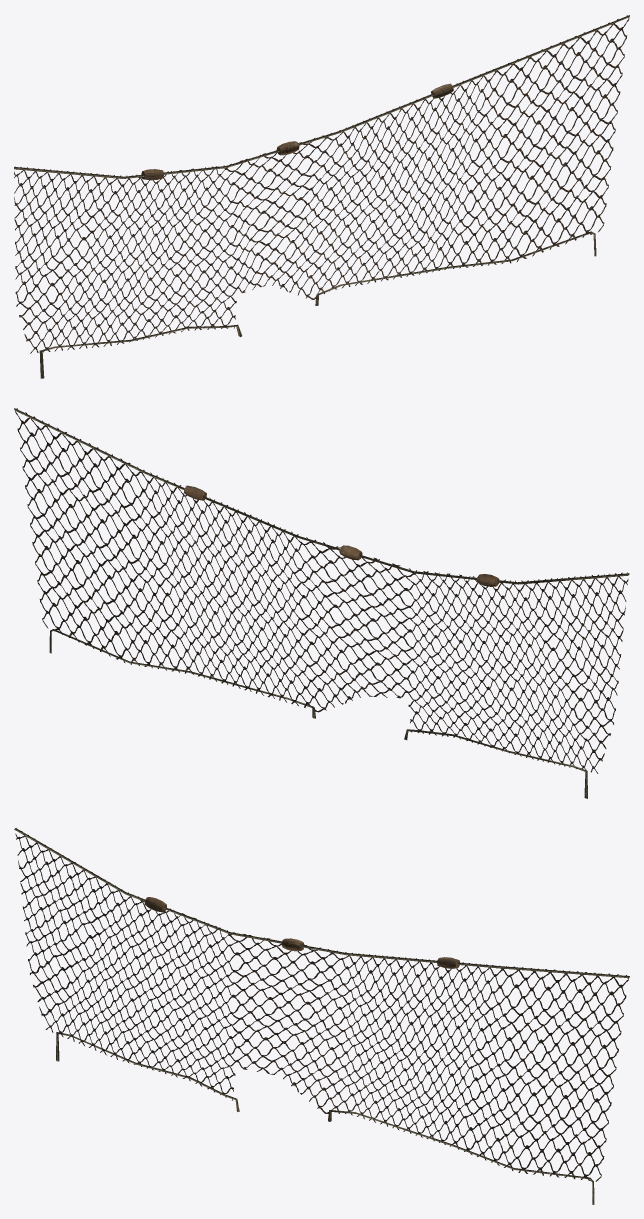
File: fishing_net_hanging_flat_long.FBX
3 views of the same model, one above another, from view 1: azimuth 30°, elevation 25°; view 2: azimuth 150°, elevation 25°; view 3: azimuth 330°, elevation 25° (orthographic). The views are drawn at different scales.
Visible parts, largest first — view 1: fishing_net_hanging_flat_long; view 2: fishing_net_hanging_flat_long; view 3: fishing_net_hanging_flat_long.
Boxes of the visible parts, bbox=[...] form: fishing_net_hanging_flat_long: bbox=[14, 15, 629, 378]; fishing_net_hanging_flat_long: bbox=[14, 408, 629, 798]; fishing_net_hanging_flat_long: bbox=[14, 828, 629, 1204].
Size of the model in its own units: 180 by 7.9 by 65.79.
